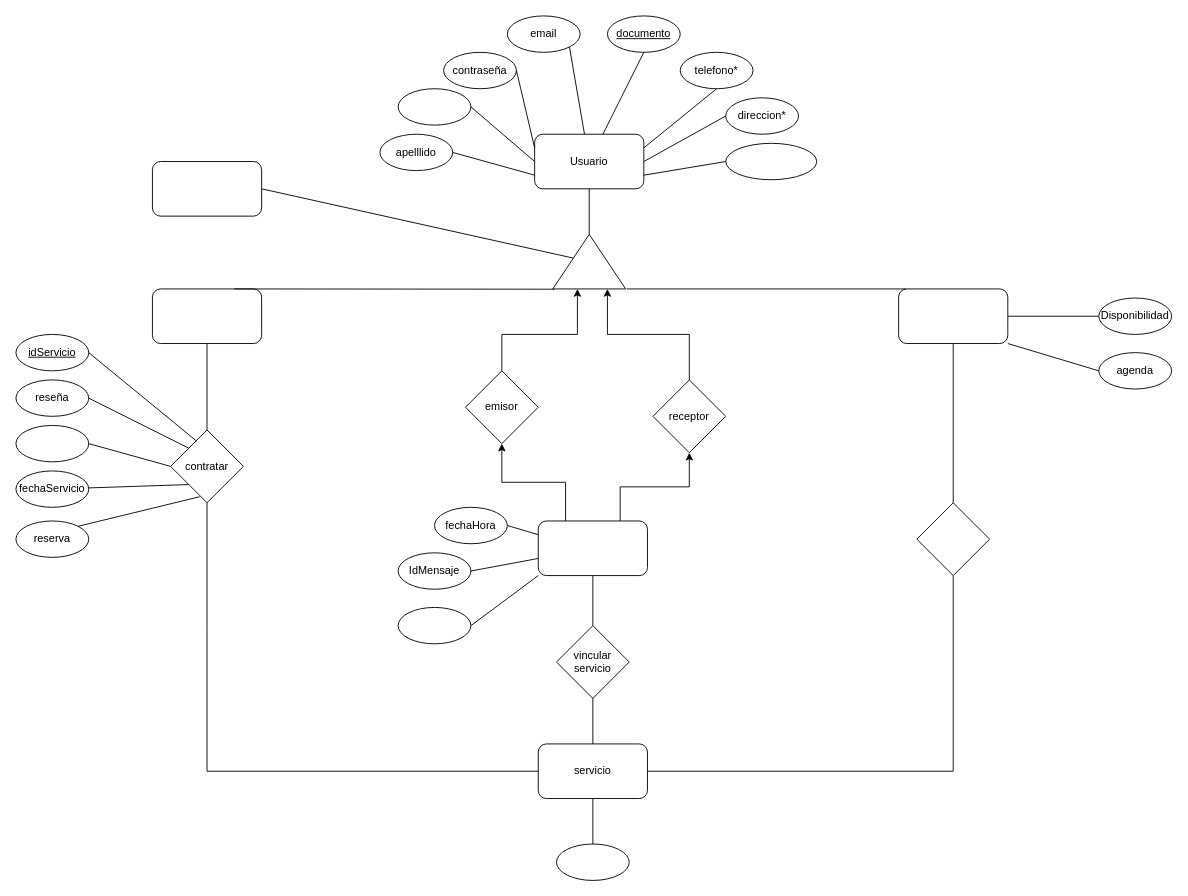
This 1188x896 diagram has some shape labels left out. Here are the shapes that lost their labels. From the top down, the centre of each, then its label:
[434,106]: nombre
[771,161]: fechaNacimiento
[207,188]: administrador
[207,316]: cliente
[953,316]: provedor
[52,443]: calificacion
[592,548]: mensaje
[953,539]: publica
[592,861]: categoria
